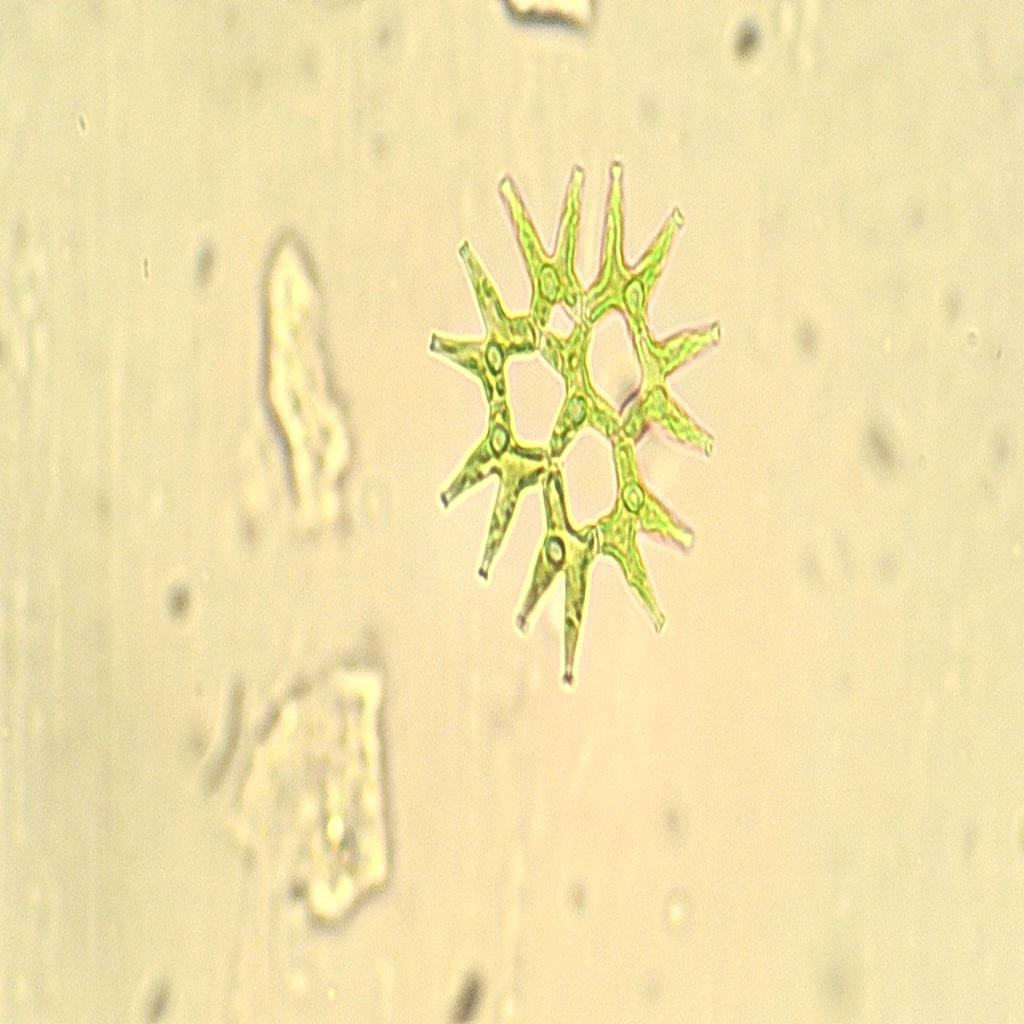Pediastrum_75T: (418, 142, 736, 710)
